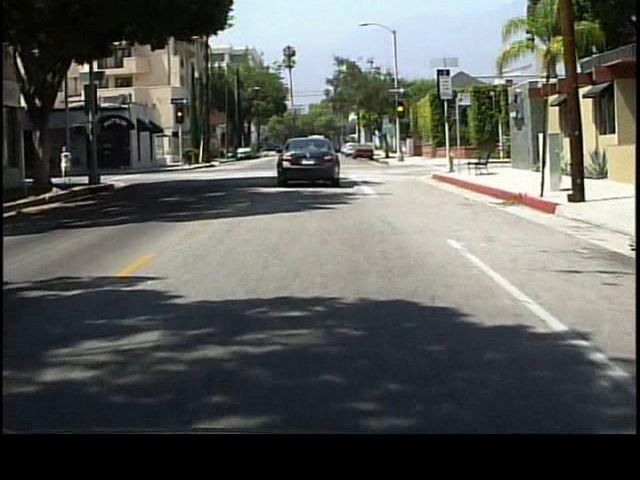person: (60, 144, 78, 189)
